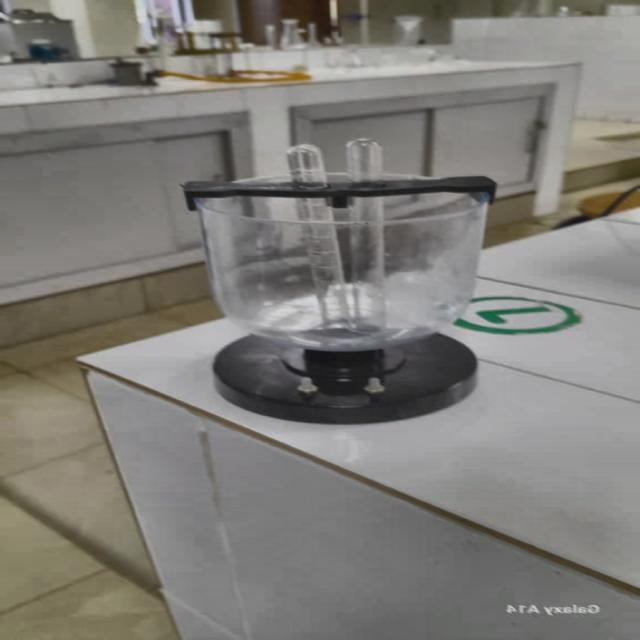Electrolyzer: (173, 136, 531, 429)
